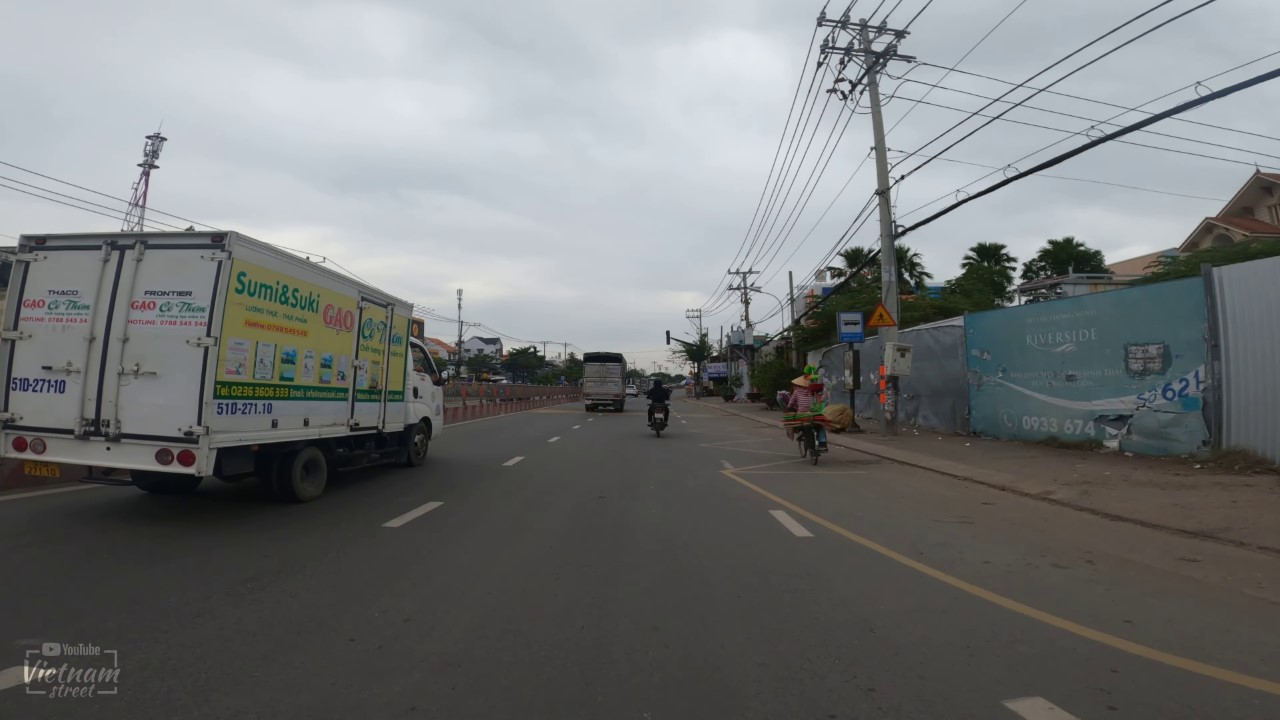can_than_nguoi_qua_duong: (864, 297, 900, 332)
